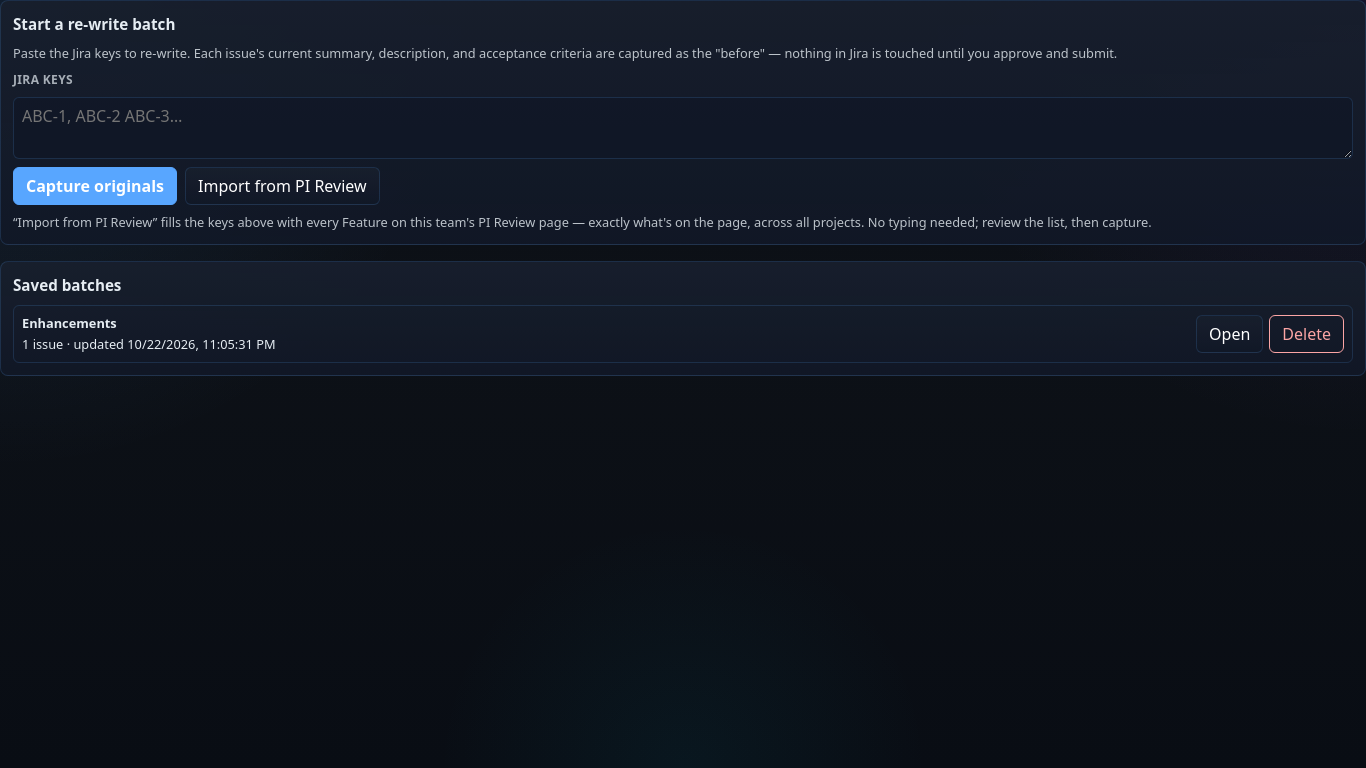
Test: BulkRewriteTab — reverting a re-write nobody liked › offers to put a written issue back, counting what it would restore
Click the button "Open" at (1230,334), box [1196,315,1263,353]
(page scrolled)
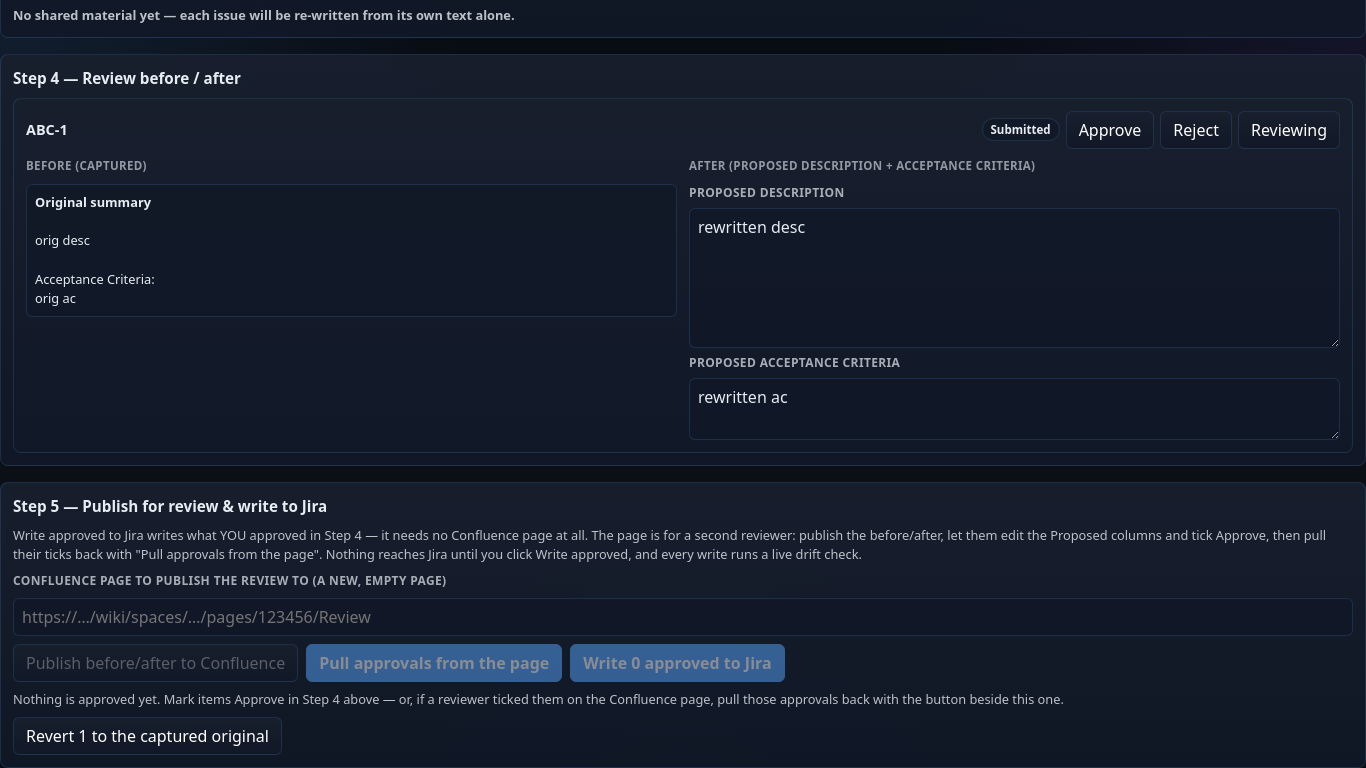
Result: the button "Revert 1 to the captured original" is shown at [13,717,282,755]
